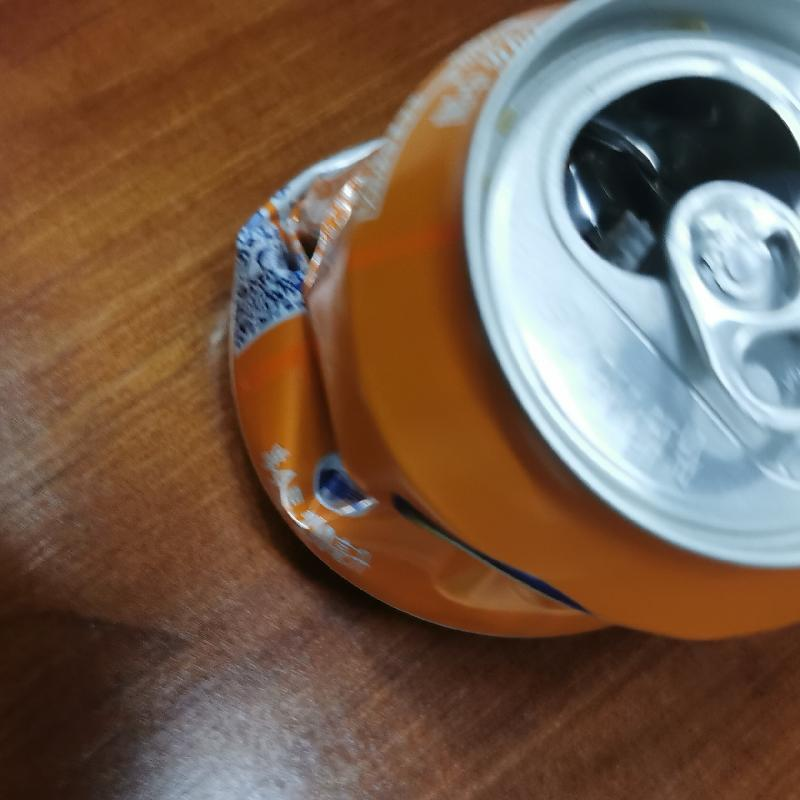cans: (223, 3, 800, 644)
